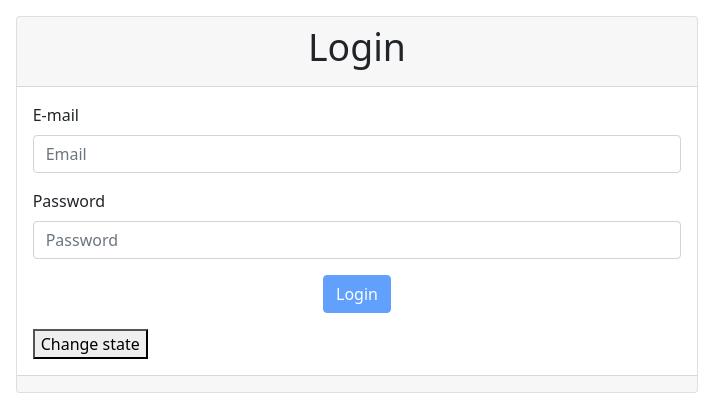
Test: Login page testing library › Interacions › Should displays the spinner after clicking the login button
Type "carloscpu@gmail.com" into the field with test id "email" at coordinates (357, 154), box x1=33 y1=135 x2=681 y2=173
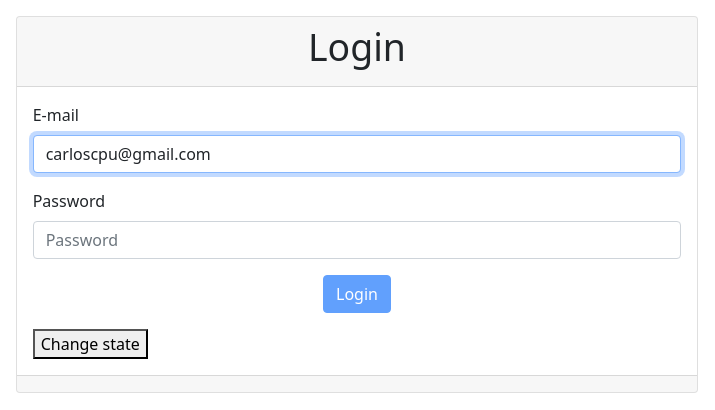
Type "mipass" into the password field with test id "password" at coordinates (357, 240), box x1=33 y1=221 x2=681 y2=259
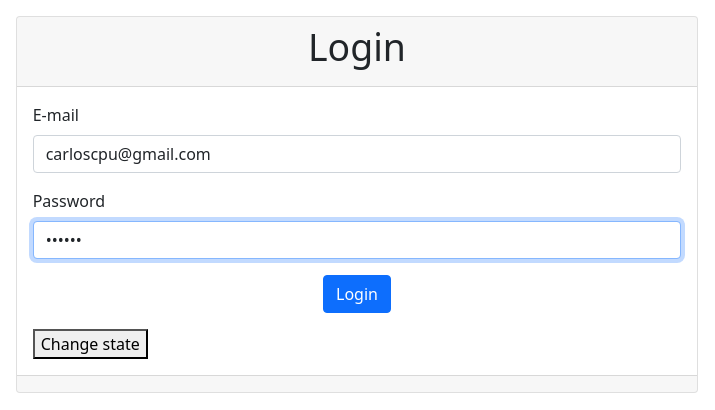
Click the button with test id "sendButton" at coordinates (357, 294), box x1=323 y1=275 x2=391 y2=313
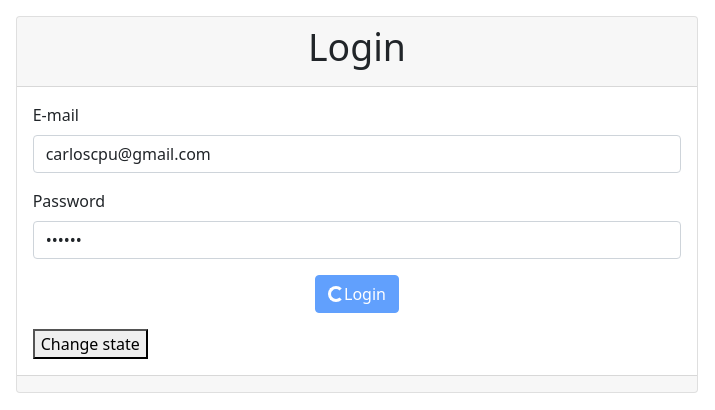
Now the message with test id "spinner" is shown, box x1=328 y1=286 x2=344 y2=302
